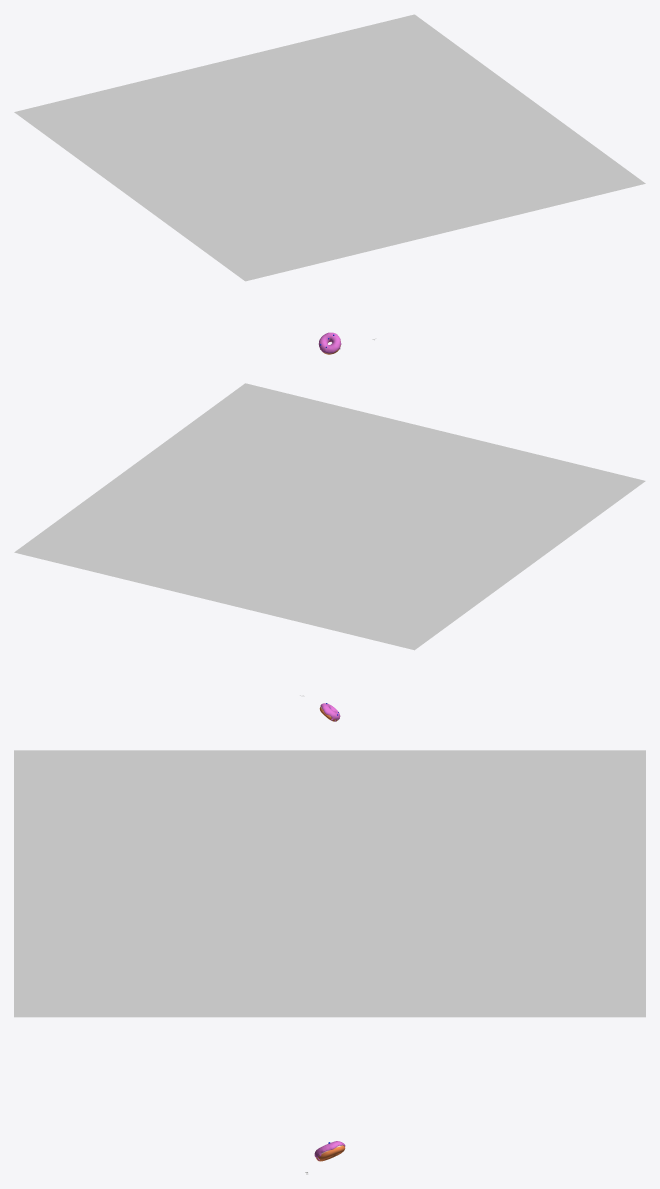
Rendered from Doughnut_Blender3.1.glb.
The picture shows the model from 3 angles, top to bottom: view 1: azimuth 30°, elevation 25°; view 2: azimuth 150°, elevation 25°; view 3: azimuth 270°, elevation 25°; orthographic projection. The views are drawn at different scales.
Parts seen in each view (by area): view 1: Plane; view 2: Plane; view 3: Plane.
Boxes of the visible parts, left/top/right/bottom form: Plane: left=14, top=14, right=645, bottom=281; Plane: left=14, top=383, right=645, bottom=650; Plane: left=14, top=750, right=645, bottom=1017.
Size of the model in its own units: 2 by 0.973 by 2.
Materials: 4 (1 with a texture image).
